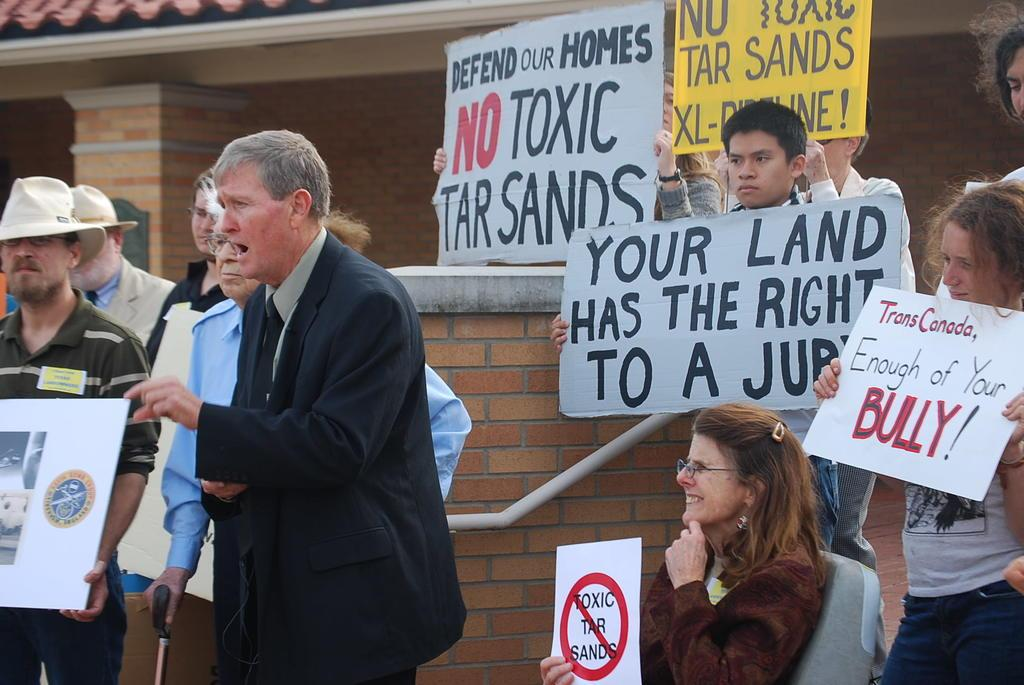Hat: (0, 174, 104, 268), (67, 185, 133, 234)
